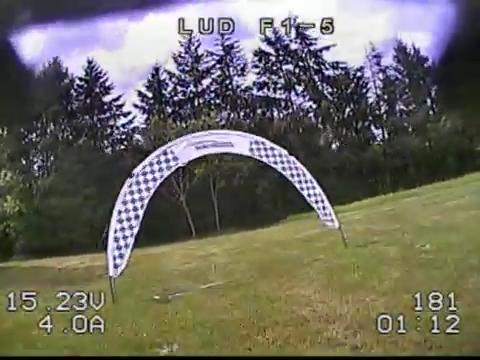gate: (104, 129, 339, 278)
